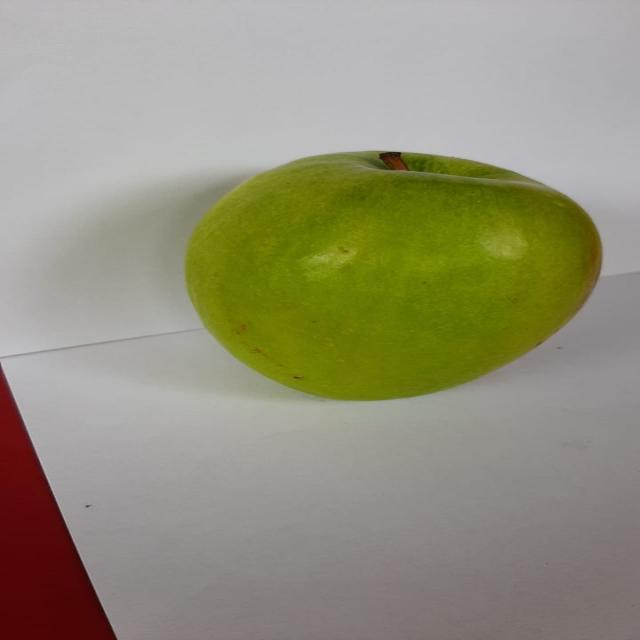50-_ripeness: (168, 133, 613, 410)
